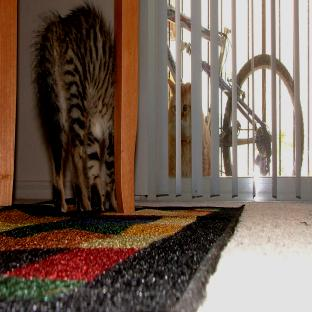Animal: (32, 3, 117, 211)
